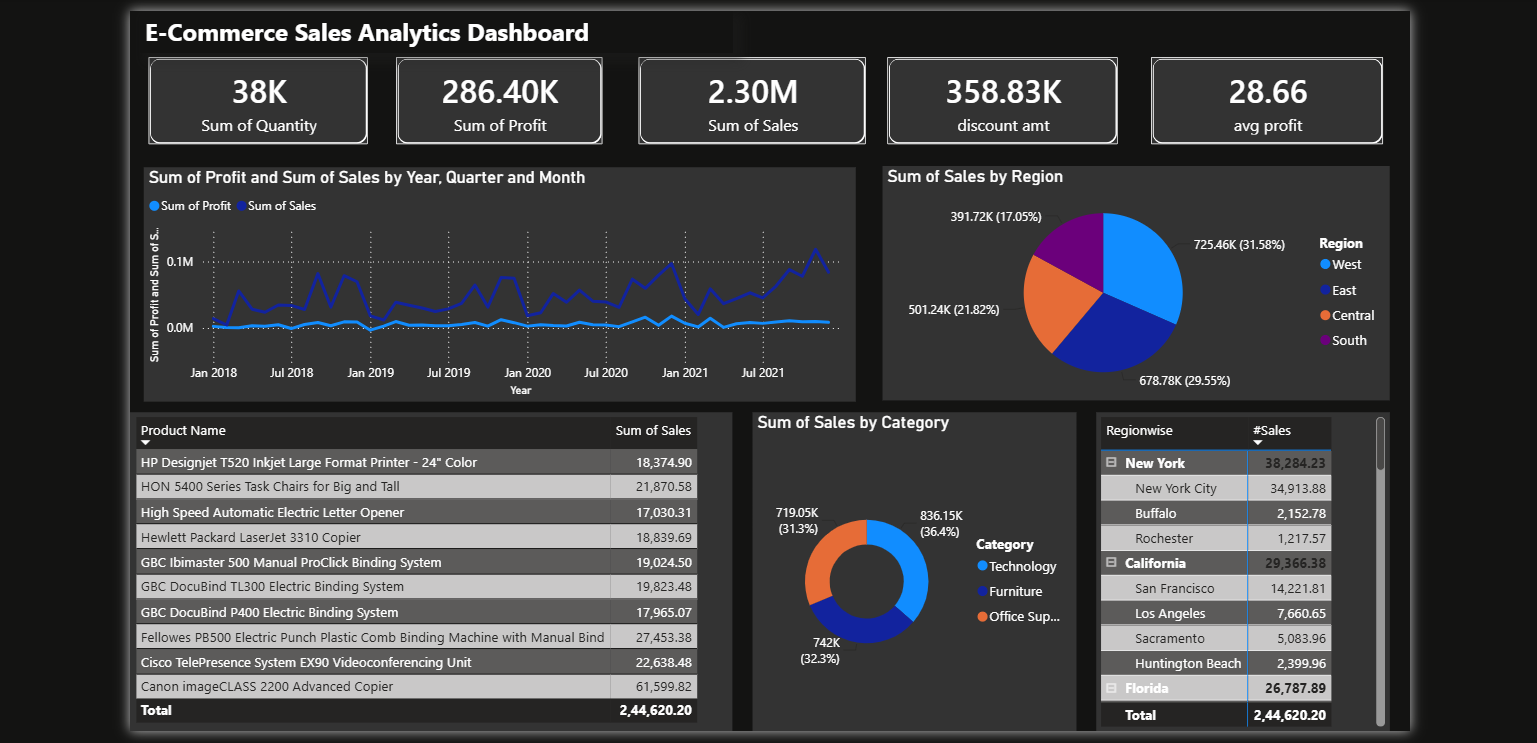

The dashboard page shown, as its layout file describes it:
{"tool":"powerbi","page":{"name":"Page 1","canvas":[1280,720],"ordinal":0},"visuals":[{"type":"cardVisual","fields":{"Data":["Sum(E-Commerce.Quantity)"]},"box":[13.9,41.7,229.1,97.2],"z":0},{"type":"cardVisual","fields":{"Data":["measure_.avg profit"]},"box":[1015.7,41.4,242.9,97.1],"z":1000},{"type":"cardVisual","fields":{"Data":["measure_.discount amt"]},"box":[752.6,41.7,240.2,97.2],"z":2000},{"type":"cardVisual","fields":{"Data":["Sum(E-Commerce.Profit)"]},"box":[261.1,41.7,216.7,97.2],"z":3000},{"type":"cardVisual","fields":{"Data":["Sum(E-Commerce.Sales)"]},"box":[504.1,41.7,237.4,97.2],"z":4000},{"type":"lineChart","fields":{"Y":["Sum(E-Commerce.Profit)","Sum(E-Commerce.Sales)"],"Category":["E-Commerce.Order Date.Variation.Date Hierarchy.Year","E-Commerce.Order Date.Variation.Date Hierarchy.Quarter","E-Commerce.Order Date.Variation.Date Hierarchy.Month"]},"box":[14,156,712,234],"z":5000},{"type":"donutChart","fields":{"Category":["E-Commerce.Category"],"Y":["Sum(E-Commerce.Sales)"]},"box":[623,400.7,323.8,319.7],"z":6000},{"type":"tableEx","fields":{"Values":["E-Commerce.Product Name","Sum(E-Commerce.Sales)"]},"box":[0,400.7,602.4,319.7],"z":7000},{"type":"pieChart","fields":{"Y":["Sum(E-Commerce.Sales)"],"Category":["E-Commerce.Region"]},"box":[752.6,155.5,506.8,234.7],"z":8000},{"type":"pivotTable","fields":{"Rows":["E-Commerce.State","E-Commerce.City"],"Values":["Sum(E-Commerce.Sales)"]},"box":[966,400.7,293.7,319.7],"z":9000},{"type":"textbox","box":[9.7,0,592.9,41.7],"z":10000}]}

Visuals, with their boxes on the page's 1280x720 design canvas (x1, y1, x2, y2). These are canvas units, not pixel positions in the 1537x743 screenshot, which may show the page scaled, cropped or inside an application window:
cardVisual - Sum(E-Commerce.Quantity): BBox(14, 42, 243, 139)
cardVisual - measure_.avg profit: BBox(1016, 41, 1259, 138)
cardVisual - measure_.discount amt: BBox(753, 42, 993, 139)
cardVisual - Sum(E-Commerce.Profit): BBox(261, 42, 478, 139)
cardVisual - Sum(E-Commerce.Sales): BBox(504, 42, 742, 139)
lineChart - Sum(E-Commerce.Profit) x Sum(E-Commerce.Sales): BBox(14, 156, 726, 390)
donutChart - E-Commerce.Category x Sum(E-Commerce.Sales): BBox(623, 401, 947, 720)
tableEx - E-Commerce.Product Name x Sum(E-Commerce.Sales): BBox(0, 401, 602, 720)
pieChart - Sum(E-Commerce.Sales) x E-Commerce.Region: BBox(753, 156, 1259, 390)
pivotTable - E-Commerce.State x E-Commerce.City: BBox(966, 401, 1260, 720)
textbox: BBox(10, 0, 603, 42)
